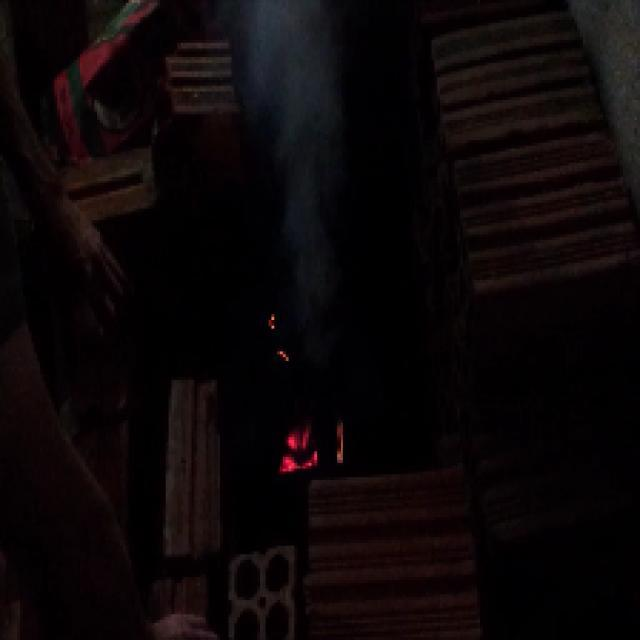Smoke: (264, 23, 336, 326)
